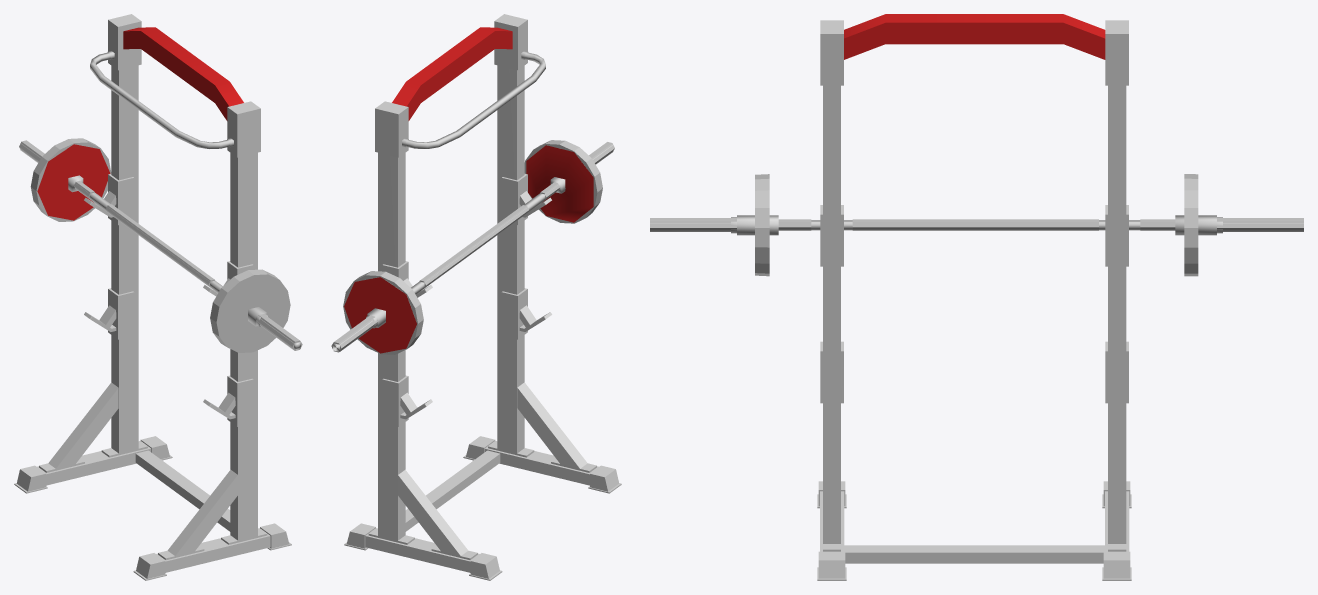
File: SM_M_Government_Office_BarbellRack_01_ATLAS.fbx
3 views of the same model, side by side, from view 1: azimuth 30°, elevation 25°; view 2: azimuth 150°, elevation 25°; view 3: azimuth 270°, elevation 25° (orthographic). The views are drawn at different scales.
Visible parts, largest first — view 1: SM_M_Government_Office_BarbellRack_01_ATLAS, SM_M_Government_Office_BarbellRack_01_ATLAS_ConvexHulls; view 2: SM_M_Government_Office_BarbellRack_01_ATLAS, SM_M_Government_Office_BarbellRack_01_ATLAS_ConvexHulls; view 3: SM_M_Government_Office_BarbellRack_01_ATLAS, SM_M_Government_Office_BarbellRack_01_ATLAS_ConvexHulls.
Boxes of the visible parts, x1,y1,x2,y2 form: SM_M_Government_Office_BarbellRack_01_ATLAS: (14, 14, 300, 580); SM_M_Government_Office_BarbellRack_01_ATLAS_ConvexHulls: (19, 138, 302, 352); SM_M_Government_Office_BarbellRack_01_ATLAS: (333, 14, 621, 580); SM_M_Government_Office_BarbellRack_01_ATLAS_ConvexHulls: (331, 140, 614, 354); SM_M_Government_Office_BarbellRack_01_ATLAS: (650, 14, 1303, 580); SM_M_Government_Office_BarbellRack_01_ATLAS_ConvexHulls: (650, 174, 1303, 276).
Bounding box in the file's own units: 81.06 × 263 × 239.
